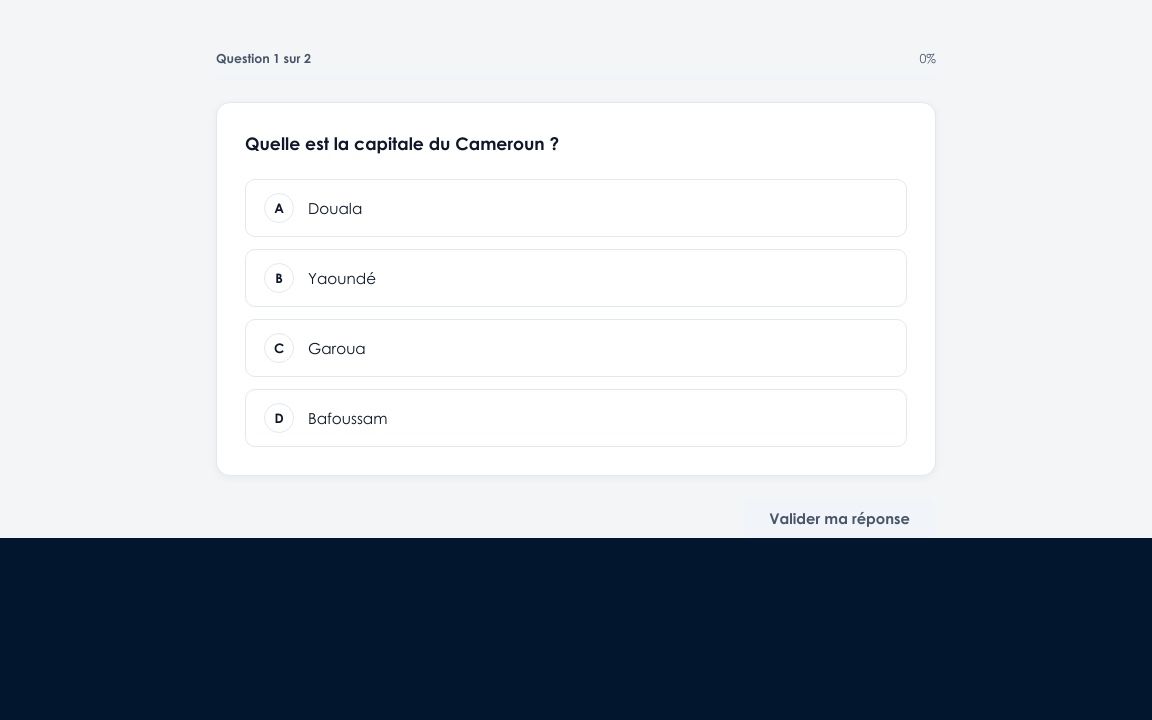
it: QuizPlayer › affiche le score 100% et le badge en cas de reussite
This screenshot has width=1152, height=720.
What coordinates should you click on to do the following:
click the text "Yaoundé"
I would click on:
 (342, 278)
Its box is 308,269 -> 376,287.
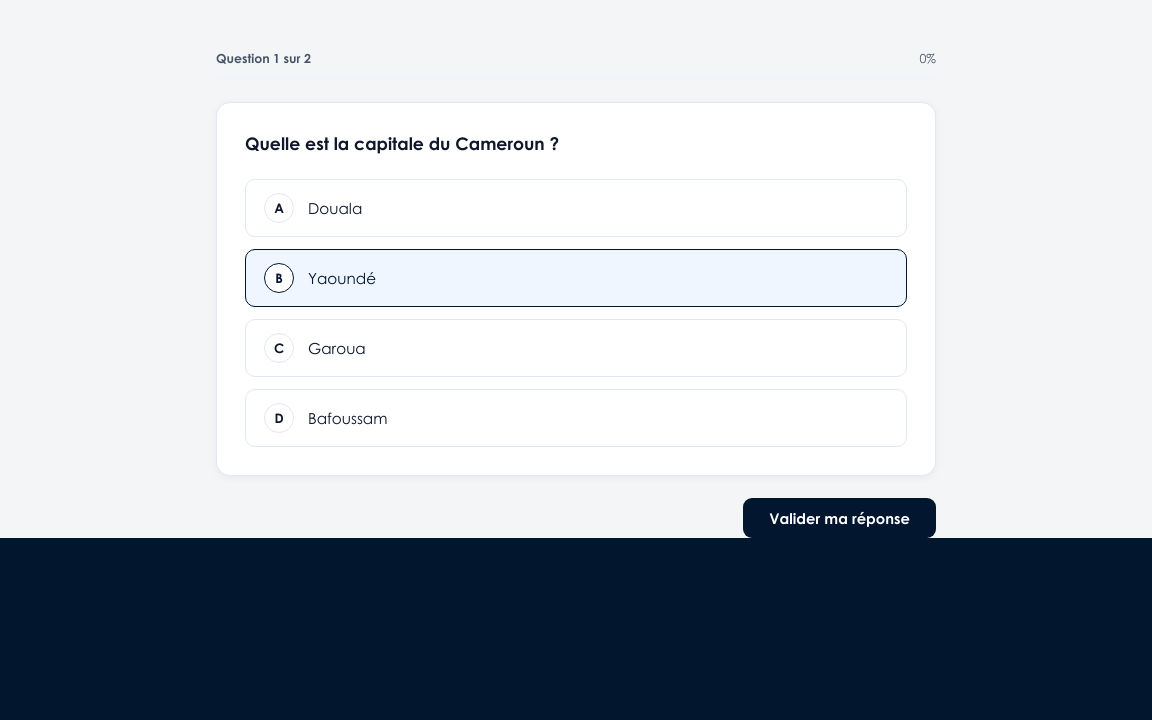
What coordinates should you click on to do the following:
click the button "Valider ma réponse"
I would click on:
 (840, 518)
Its box is 743,498 -> 936,538.
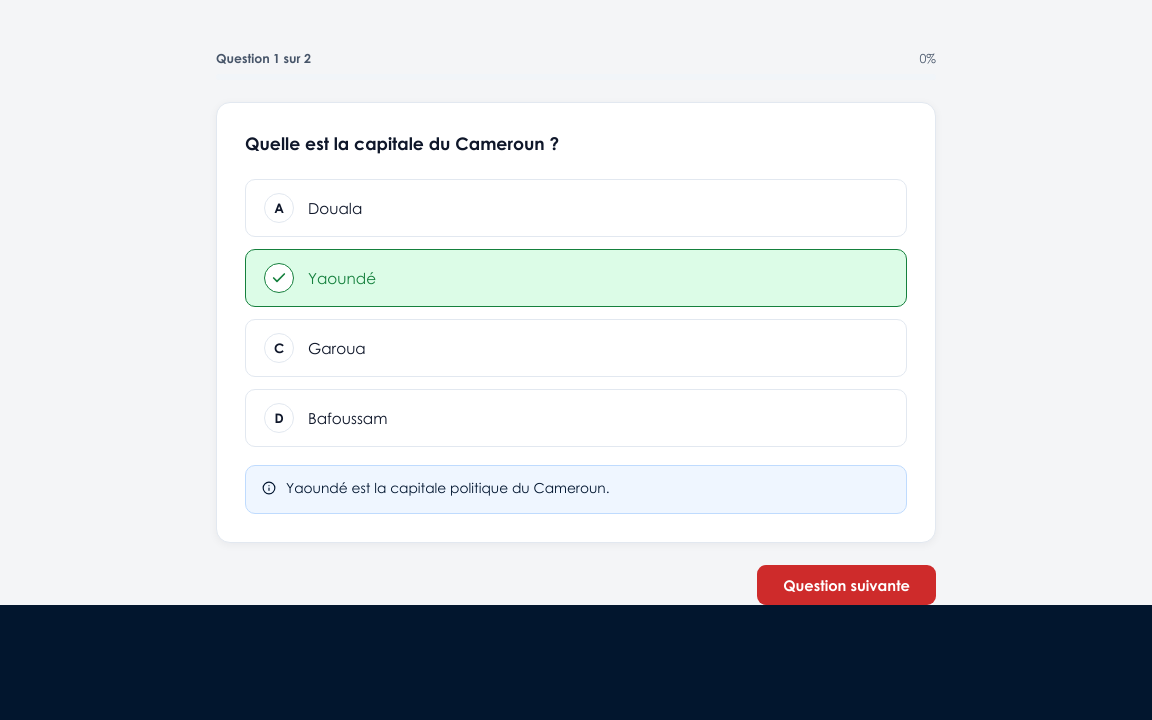
What coordinates should you click on to do the following:
click the button "Question suivante"
I would click on:
 (847, 585)
Its box is 757,565 -> 936,605.
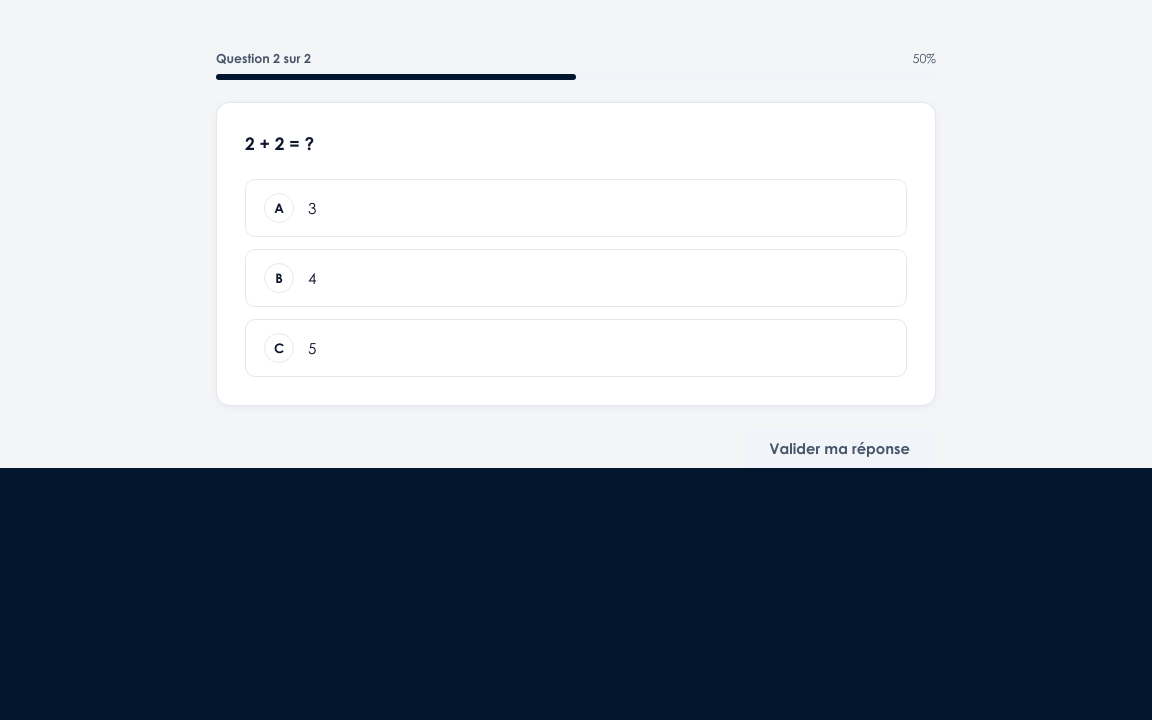
What coordinates should you click on to do the following:
click the text "4"
I would click on:
 (312, 278)
Its box is 308,269 -> 316,287.
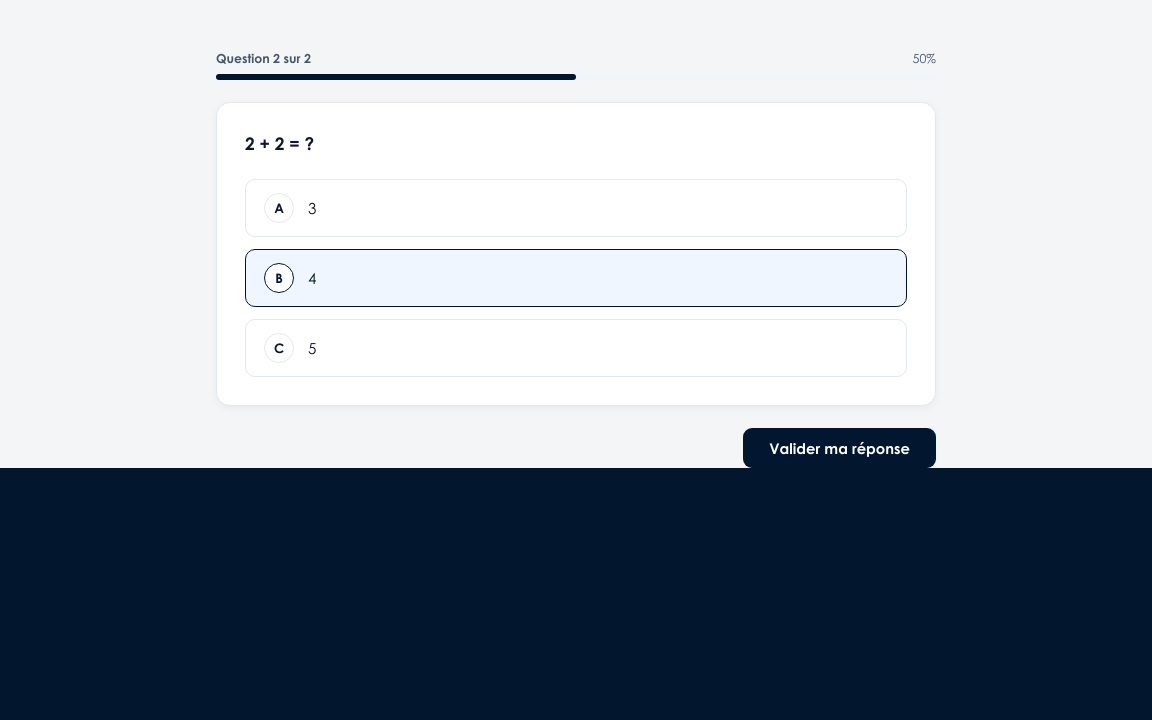
What coordinates should you click on to do the following:
click the button "Valider ma réponse"
I would click on:
 (840, 448)
Its box is 743,428 -> 936,468.
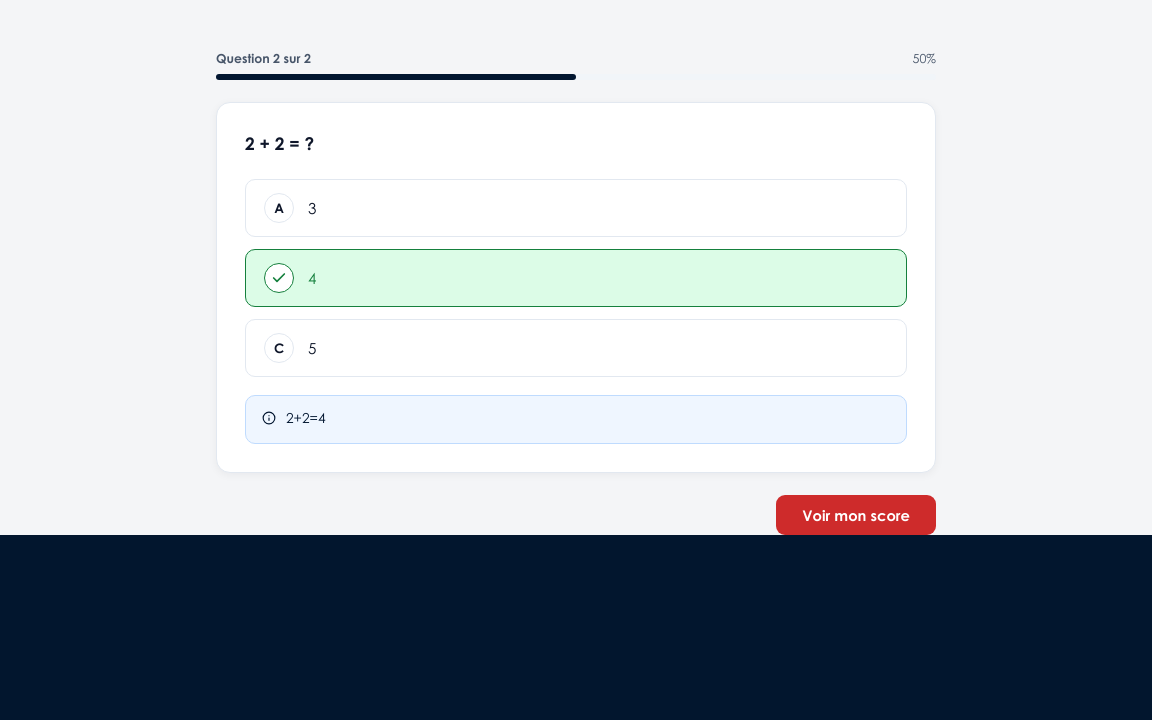
What coordinates should you click on to do the following:
click the button "Voir mon score"
I would click on:
 (856, 515)
Its box is 776,495 -> 936,535.
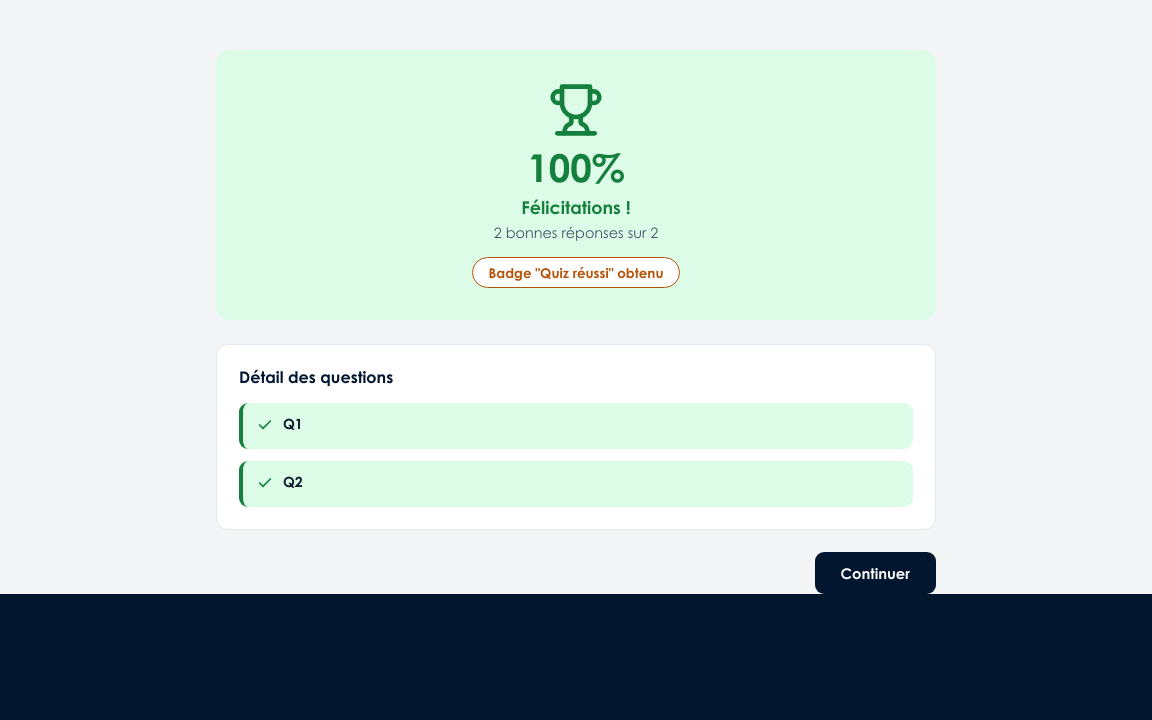
Expected: the text "100%" is shown, 527,143 -> 625,190
Expected: the text "Badge \"Quiz réussi\" obtenu" is shown, 472,257 -> 680,288
